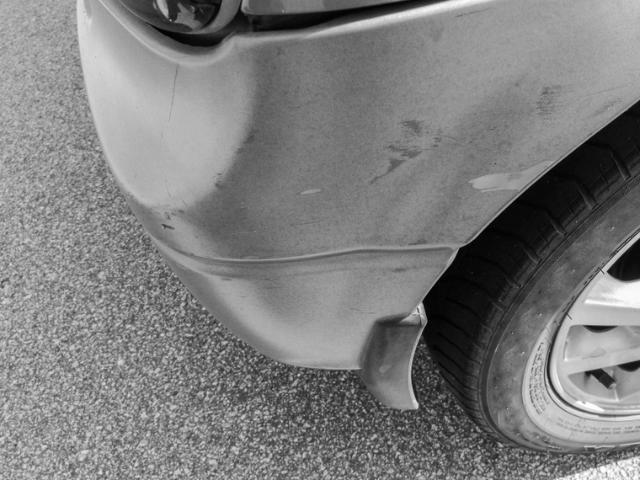Bumper: (80, 8, 279, 227)
